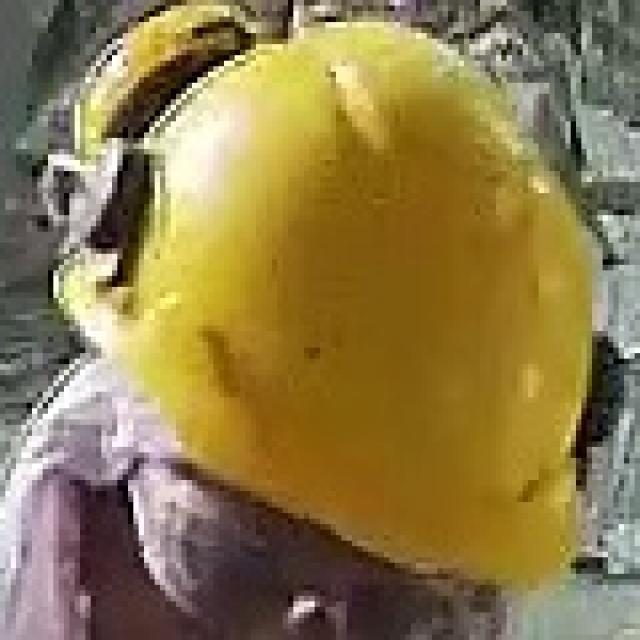yellow helmet: (29, 1, 601, 601)
